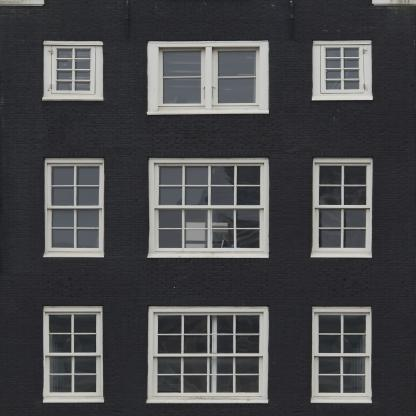Building Outline: (0, 0, 416, 416)
Cornice: (148, 152, 269, 158), (148, 300, 269, 306), (148, 35, 268, 41), (312, 35, 373, 41), (43, 300, 104, 306), (313, 152, 373, 158), (313, 301, 373, 307), (43, 35, 102, 41), (45, 152, 104, 158)
Facade: (0, 0, 416, 416)
Floor: (1, 0, 416, 140), (1, 149, 416, 288), (1, 296, 416, 416)
Floor Slab: (1, 141, 416, 149), (1, 288, 416, 296)
Window: (155, 163, 265, 251), (154, 312, 264, 397), (160, 47, 261, 106), (46, 163, 103, 251), (315, 163, 371, 251), (314, 312, 370, 397), (45, 312, 101, 396), (52, 45, 95, 94), (321, 45, 364, 94)
